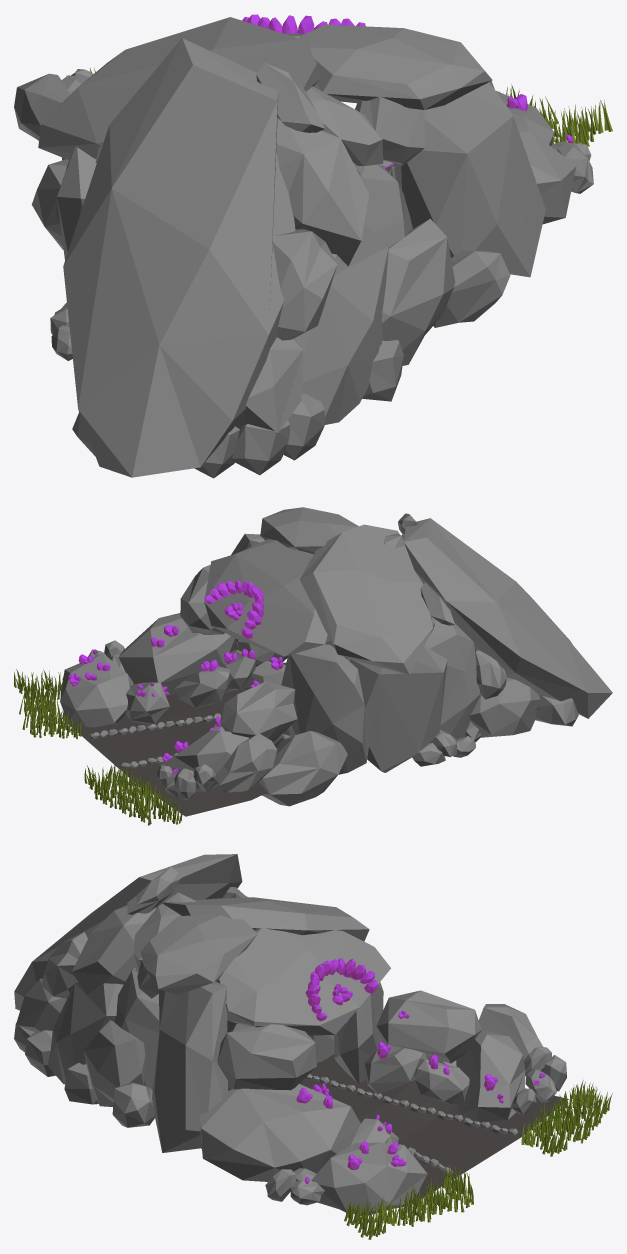
The model's file is mineSTONE.fbx.
3 renders of one model, top to bottom at view 1: azimuth 30°, elevation 25°; view 2: azimuth 150°, elevation 25°; view 3: azimuth 270°, elevation 25°, orthographic. The views are drawn at different scales.
Parts seen in each view (by area): view 1: rock.019, rock.006, rock.034, rock.028, rock.008, rock.020, rock.023, rock.033, rock.032, rock.043, rock.035, rock.003 (+13 smaller); view 2: rock.019, rock.034, rock.036, rock.010, Plane, rock.037, rock.016, rock.004, rock.009, rock.047, rock.018, grass.395 (+20 smaller); view 3: rock.036, rock.016, rock.006, Plane, rock.028, rock.046, rock.047, rock.018, rock.019, rock.034, rock.002, rock.008 (+22 smaller).
Boxes of the visible parts, x1,y1,x2,y2 form: rock.019: (63,38,295,477); rock.006: (393,82,545,277); rock.034: (38,17,321,160); rock.028: (300,24,492,109); rock.008: (294,225,388,424); rock.020: (276,124,369,266); rock.023: (382,218,455,365); rock.033: (272,229,337,340); rock.032: (235,337,303,433); rock.043: (433,250,510,327); rock.035: (355,97,424,165); rock.003: (306,86,383,166); rock.019: (404,518,612,718); rock.034: (299,524,433,674); rock.036: (204,539,327,656); rock.010: (350,646,447,772); Plane: (62,662,540,816); rock.037: (281,644,371,774); rock.016: (118,613,234,695); rock.004: (255,731,347,806); rock.009: (424,619,480,739); rock.047: (60,653,133,727); rock.018: (220,681,297,741); grass.395: (84,764,182,825); rock.036: (216,927,390,1035); rock.016: (199,1084,360,1181); rock.006: (152,981,227,1152); Plane: (299,1055,568,1215); rock.028: (140,914,257,994); rock.046: (217,1024,318,1090); rock.047: (311,1142,427,1212); rock.018: (376,990,481,1063); rock.019: (14,854,242,1010); rock.034: (161,897,369,941); rock.002: (456,1030,525,1121); rock.008: (47,981,123,1084).
Bounding box in the file's own units: 941 × 410 × 953.
